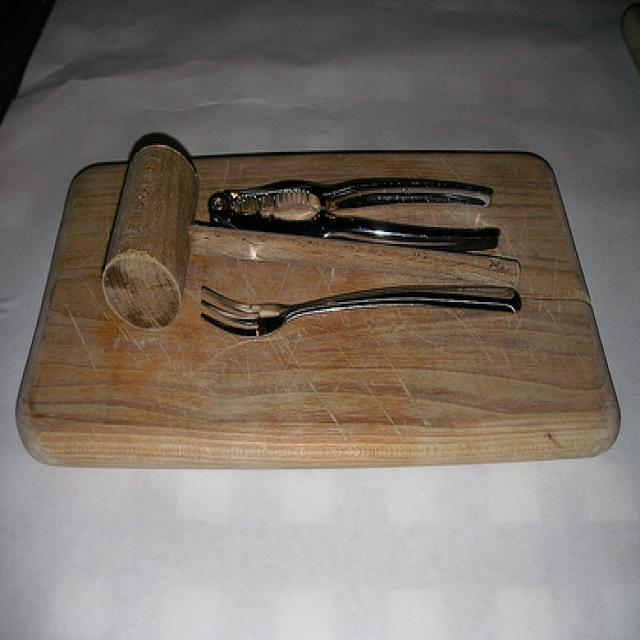hammer: (98, 136, 530, 320)
pliers: (204, 172, 516, 260)
